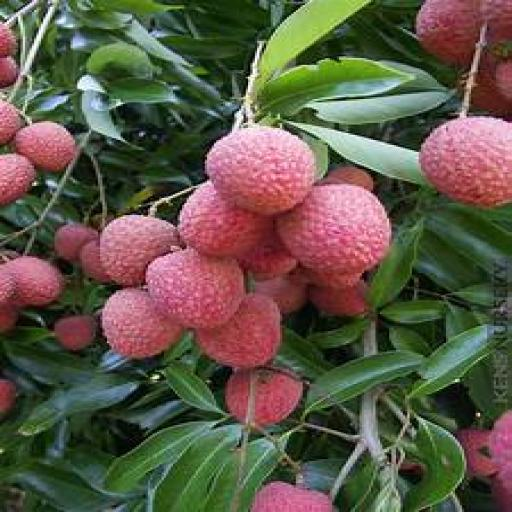lychee: (278, 185, 391, 273), (208, 127, 316, 215), (421, 117, 511, 206), (146, 248, 243, 327), (178, 183, 270, 257), (196, 294, 282, 368), (101, 216, 179, 286), (103, 289, 182, 358), (226, 369, 302, 426), (417, 0, 482, 64), (14, 122, 77, 172), (237, 229, 298, 279), (5, 256, 63, 305), (251, 482, 334, 511), (472, 59, 511, 116), (310, 280, 368, 317), (255, 275, 307, 315), (0, 154, 36, 204), (458, 429, 496, 476), (55, 224, 100, 261), (490, 412, 511, 491), (319, 166, 375, 191), (55, 316, 95, 351), (80, 239, 111, 283), (481, 0, 511, 44), (303, 268, 361, 290), (0, 99, 22, 145), (494, 60, 511, 109), (492, 475, 511, 511), (0, 265, 15, 307), (0, 57, 20, 88), (0, 24, 18, 58), (0, 379, 15, 414), (0, 304, 18, 332)
